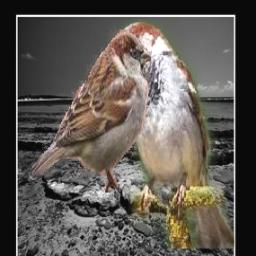Sparrow: (109, 20, 235, 250), (27, 30, 152, 193)
